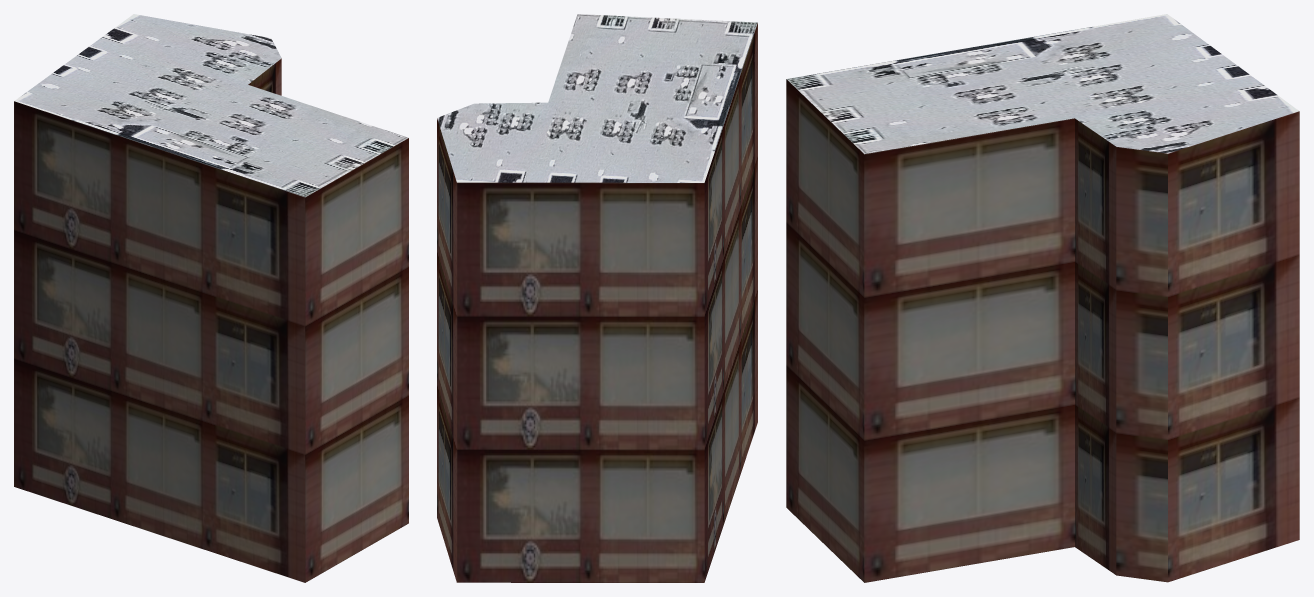
Rendered from ResTex__2700.fbx.
3 renders of one model, left to right at view 1: azimuth 30°, elevation 25°; view 2: azimuth 150°, elevation 25°; view 3: azimuth 270°, elevation 25°, orthographic. The views are drawn at different scales.
Parts seen in each view (by area): view 1: CityEngineMaterial_13_m, CityEngineMaterial_8_m; view 2: CityEngineMaterial_13_m, CityEngineMaterial_8_m; view 3: CityEngineMaterial_13_m, CityEngineMaterial_8_m.
Boxes of the visible parts, left/top/right/bottom form: CityEngineMaterial_13_m: left=14, top=58, right=408, bottom=582; CityEngineMaterial_8_m: left=14, top=14, right=408, bottom=197; CityEngineMaterial_13_m: left=437, top=23, right=757, bottom=582; CityEngineMaterial_8_m: left=437, top=14, right=757, bottom=182; CityEngineMaterial_13_m: left=786, top=79, right=1299, bottom=582; CityEngineMaterial_8_m: left=787, top=14, right=1298, bottom=154.
Size of the model in its own units: 6.32 by 9 by 9.76.
Materials: 2 (2 with a texture image).
